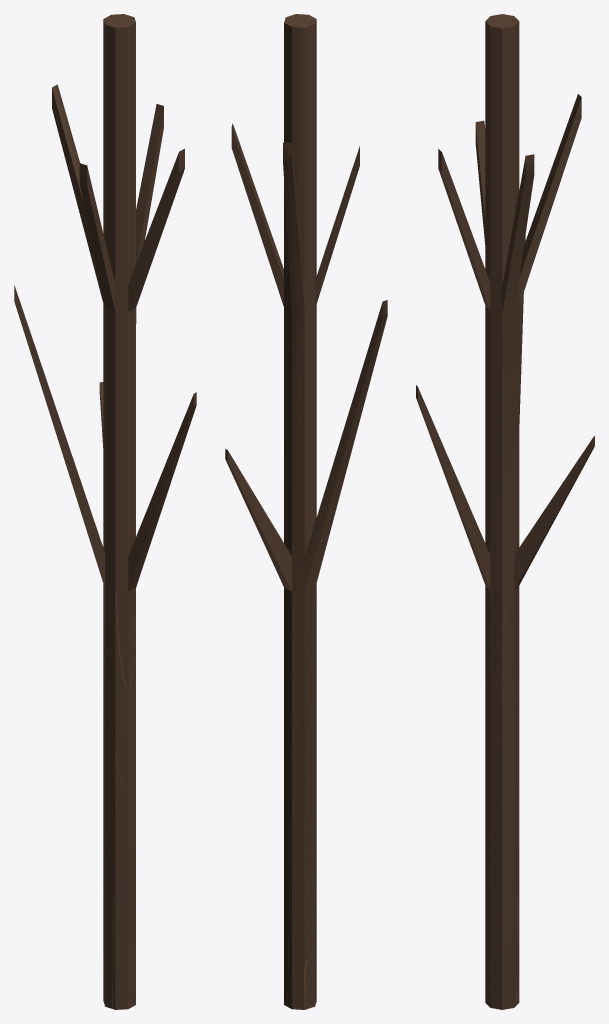
Rendered from thin_tree01.fbx.
3 views of the same model, side by side, from view 1: azimuth 30°, elevation 25°; view 2: azimuth 150°, elevation 25°; view 3: azimuth 270°, elevation 25° (orthographic).
Parts seen in each view (by area): view 1: thin_tree01; view 2: thin_tree01; view 3: thin_tree01.
Part boxes in pixels (x1,y1,x2,y2): thin_tree01: (14, 14, 196, 1009); thin_tree01: (225, 14, 387, 1009); thin_tree01: (416, 14, 594, 1009).
Size of the model in its own units: 0.8967 by 5.54 by 0.9152.
